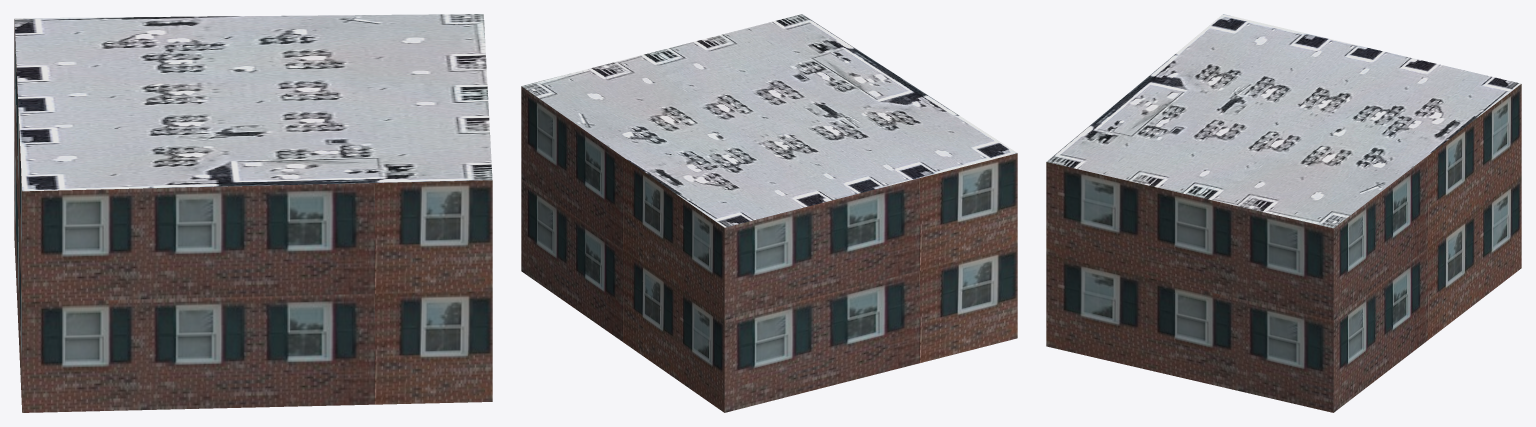
The model's file is ResTex__2587.fbx.
3 renders of one model, left to right at view 1: azimuth 30°, elevation 25°; view 2: azimuth 150°, elevation 25°; view 3: azimuth 270°, elevation 25°, orthographic. The views are drawn at different scales.
Parts seen in each view (by area): view 1: CityEngineMaterial_14_m, CityEngineMaterial_8_m; view 2: CityEngineMaterial_14_m, CityEngineMaterial_8_m; view 3: CityEngineMaterial_14_m, CityEngineMaterial_8_m.
Part boxes in pixels (bbox=[...]): CityEngineMaterial_14_m: bbox=[14, 19, 492, 412]; CityEngineMaterial_8_m: bbox=[14, 14, 492, 191]; CityEngineMaterial_14_m: bbox=[521, 86, 1017, 412]; CityEngineMaterial_8_m: bbox=[521, 14, 1017, 227]; CityEngineMaterial_14_m: bbox=[1046, 84, 1521, 412]; CityEngineMaterial_8_m: bbox=[1046, 14, 1521, 228].
Bounding box in the file's own units: 14.96 × 6 × 14.01.
Materials: 2 (2 with a texture image).
